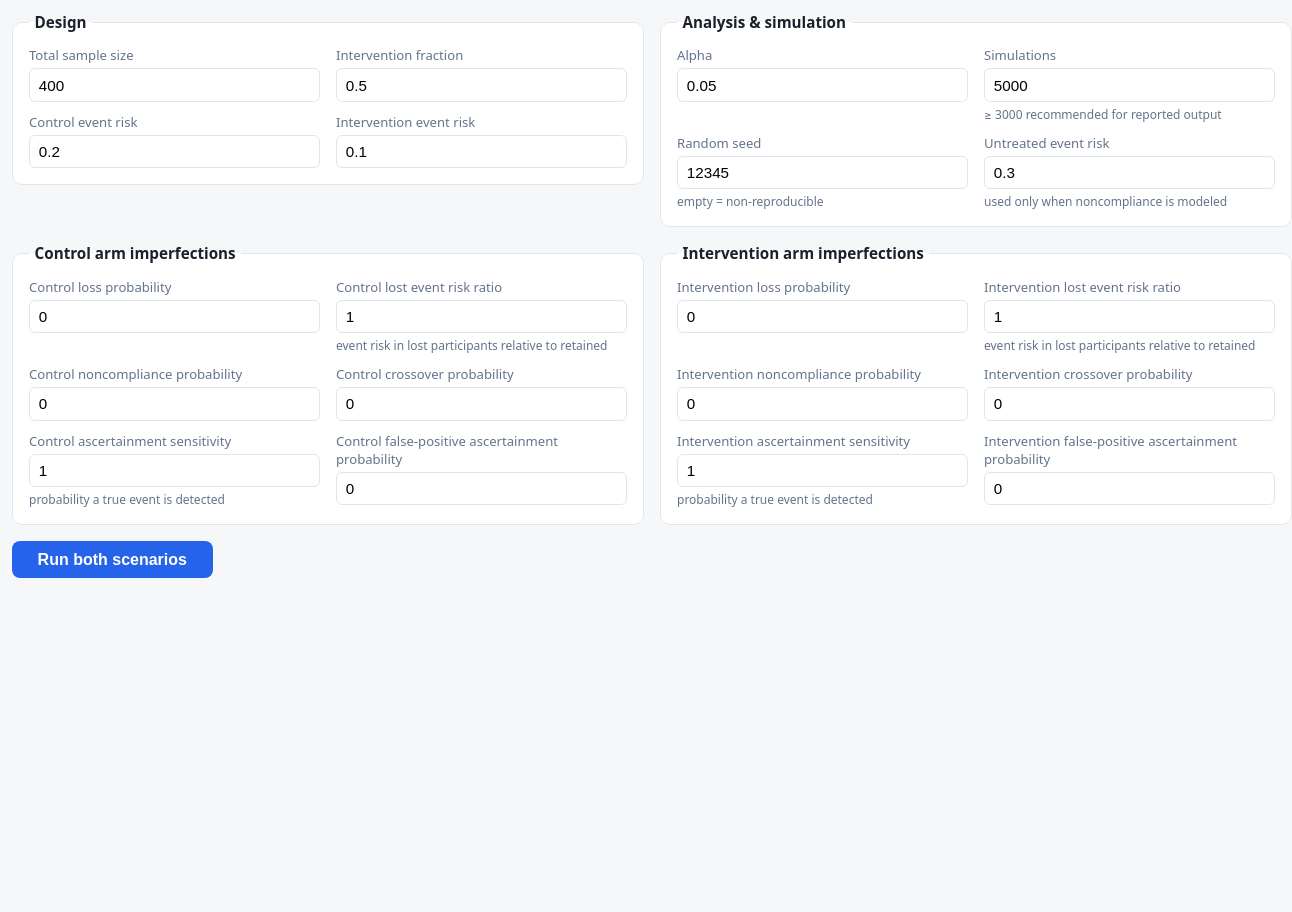
Test: TrialGoesBadly › shows unmapped 422 errors in the general banner
Click the button with test id "run-button" at coordinates (112, 560), box [12, 541, 212, 578]
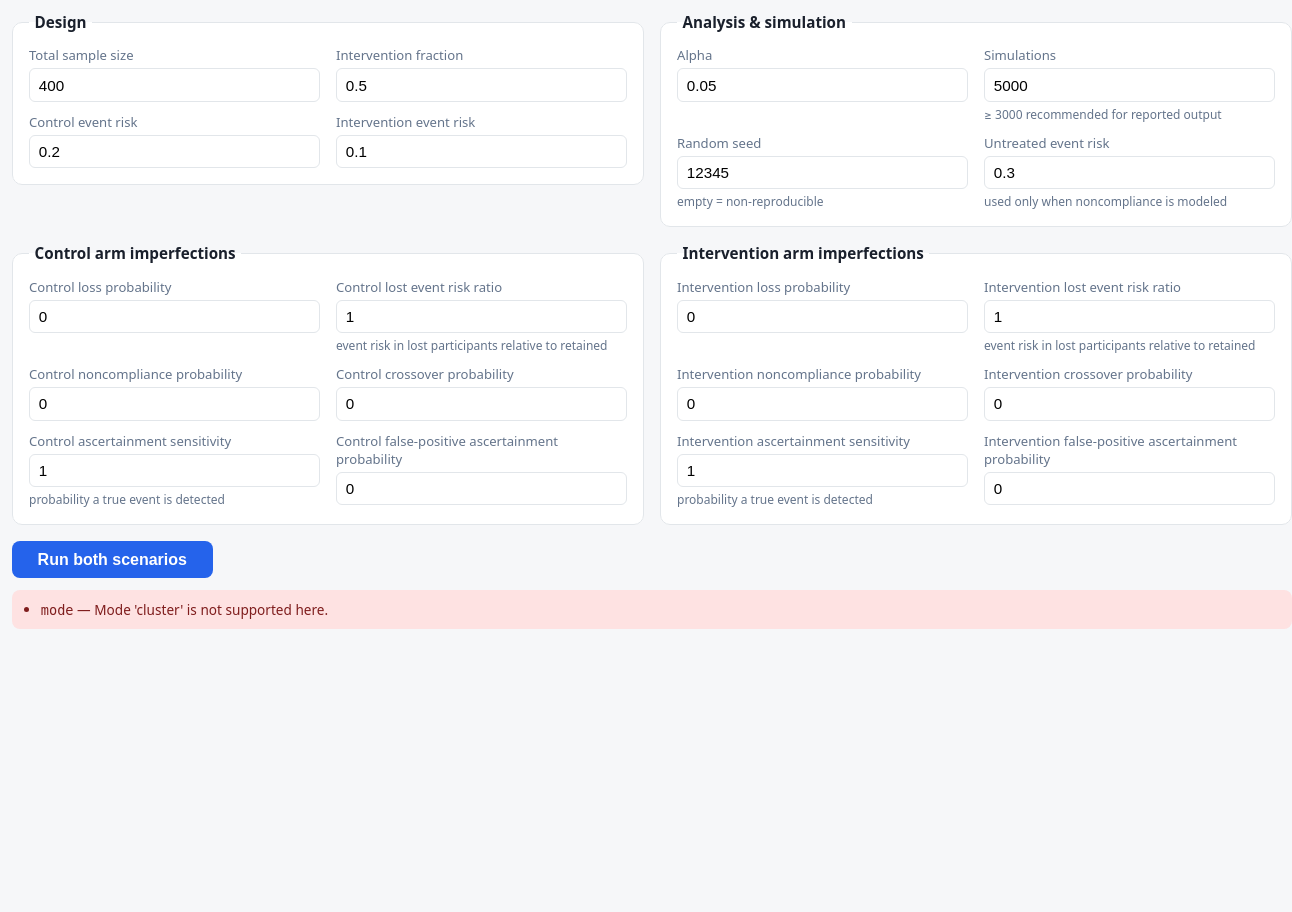
Expected: the message shows "mode", [41, 602, 74, 618]
Expected: the message shows "Mode 'cluster' is not supported here.", [94, 600, 328, 619]
